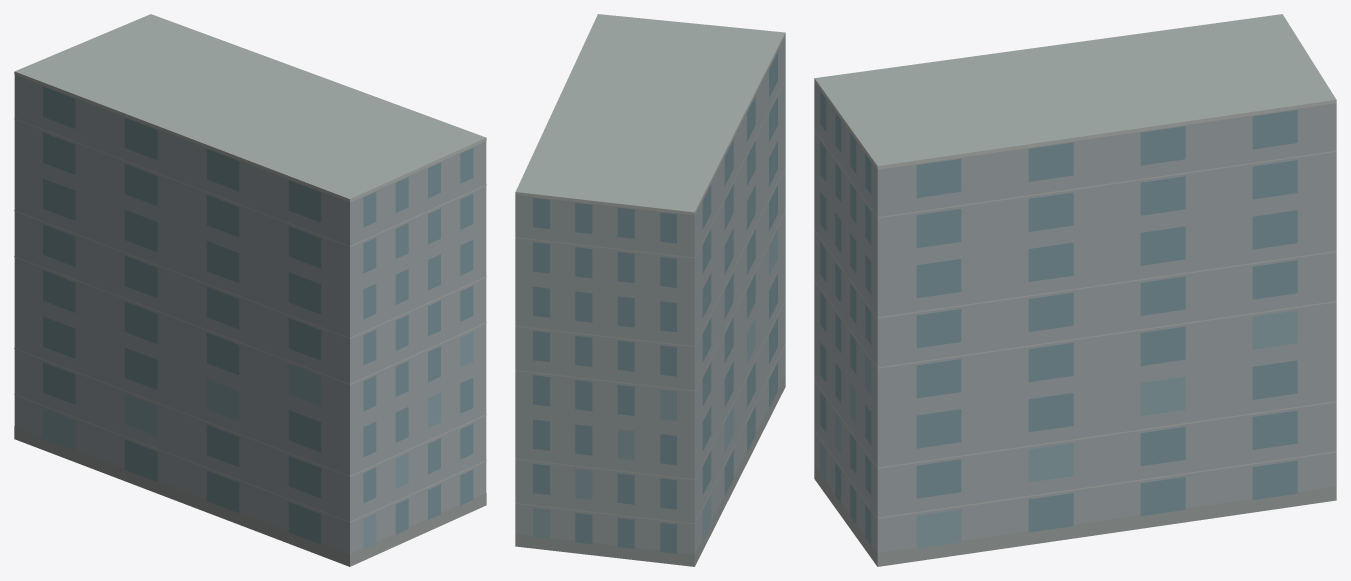
File: survey-upis-32767850.glb
3 views of the same model, side by side, from view 1: azimuth 30°, elevation 25°; view 2: azimuth 150°, elevation 25°; view 3: azimuth 270°, elevation 25° (orthographic). The views are drawn at different scales.
Visible parts, largest first — view 1: survey-upis-32767850.tmp; view 2: survey-upis-32767850.tmp; view 3: survey-upis-32767850.tmp.
Part boxes in pixels (<box>): survey-upis-32767850.tmp: <box>14,14,486,566</box>; survey-upis-32767850.tmp: <box>515,14,785,566</box>; survey-upis-32767850.tmp: <box>814,14,1336,566</box>.
Size of the model in its own units: 22.38 by 27.45 by 32.44.
